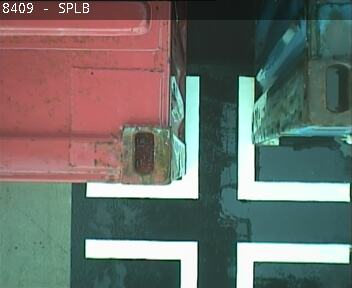groundmarker_1: (86, 77, 347, 199), (86, 240, 348, 288)
